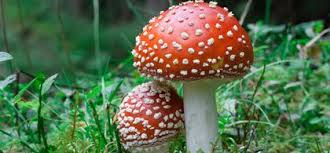Amanita muscaria: (132, 1, 262, 143), (107, 77, 185, 152)
